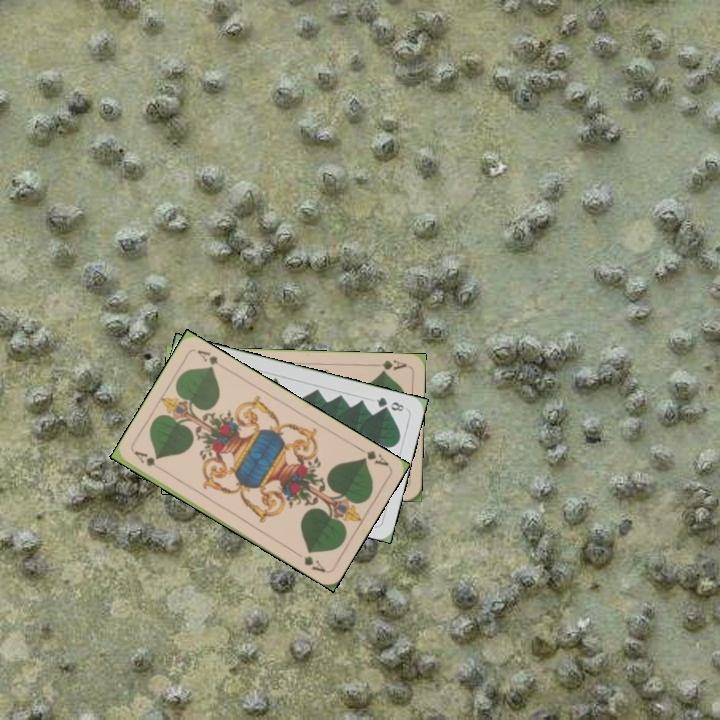G8: (372, 393, 407, 414)
GA: (130, 447, 167, 474), (353, 443, 391, 469), (369, 356, 409, 375)
